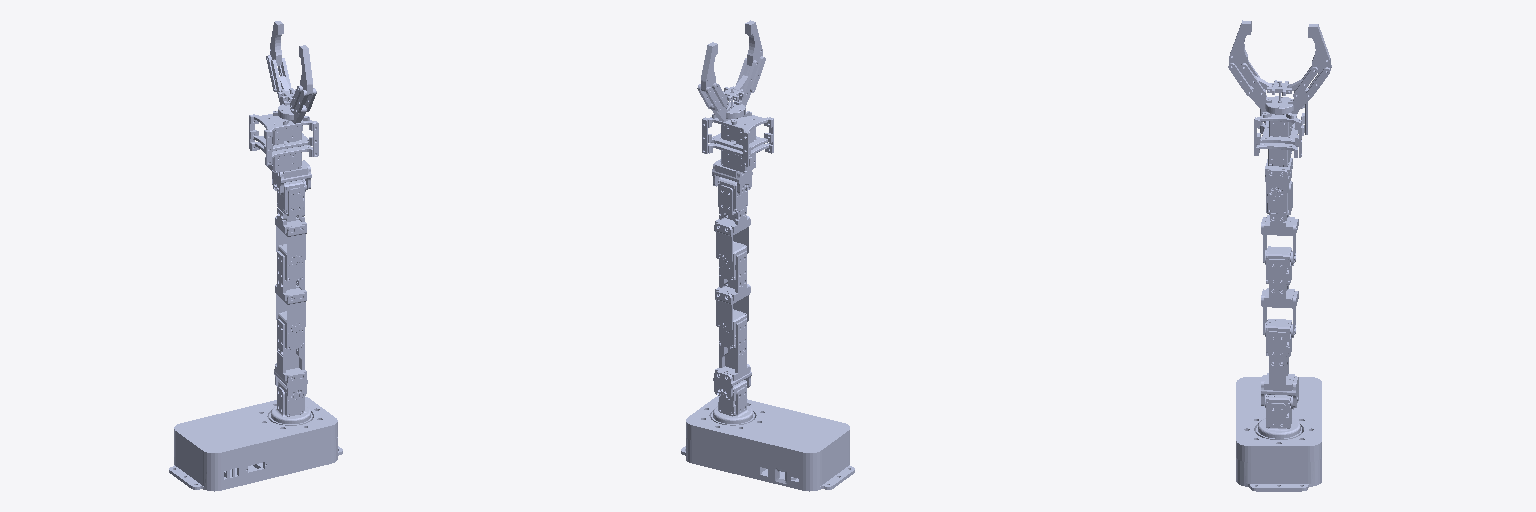
URDF robot description (urdf_assem):
<?xml version="1.0" encoding="utf-8"?>
<!-- This URDF was automatically created by SolidWorks to URDF Exporter! Originally created by [author] ([email redacted]) 
     Commit Version: 1.6.0-1-g15f4949  Build Version: 1.6.7594.29634
     For more information, please see http://wiki.ros.org/sw_urdf_exporter -->
<robot
  name="urdf_assem">
  <link
    name="base_link">
    <inertial>
      <origin
        xyz="-9.3693E-08 2.2776E-09 -1.8355E-08"
        rpy="0 0 0" />
      <mass
        value="0.62852" />
      <inertia
        ixx="0.00090495"
        ixy="-8.558E-08"
        ixz="5.5032E-07"
        iyy="0.00078655"
        iyz="-1.6194E-06"
        izz="0.001595" />
    </inertial>
    <visual>
      <origin
        xyz="0 0 0"
        rpy="0 0 0" />
      <geometry>
        <mesh
          filename="package://urdf_assem/meshes/base_link.STL" />
      </geometry>
      <material
        name="">
        <color
          rgba="0.79216 0.81961 0.93333 1" />
      </material>
    </visual>
    <collision>
      <origin
        xyz="0 0 0"
        rpy="0 0 0" />
      <geometry>
        <mesh
          filename="package://urdf_assem/meshes/base_link.STL" />
      </geometry>
    </collision>
  </link>
  <link
    name="1yaw_Link">
    <inertial>
      <origin
        xyz="0.00013774 -0.00022821 0.051001"
        rpy="0 0 0" />
      <mass
        value="0.070658" />
      <inertia
        ixx="1.9218E-05"
        ixy="4.5889E-09"
        ixz="3.3772E-08"
        iyy="1.93E-05"
        iyz="2.5327E-07"
        izz="1.7629E-05" />
    </inertial>
    <visual>
      <origin
        xyz="0 0 0"
        rpy="0 0 0" />
      <geometry>
        <mesh
          filename="package://urdf_assem/meshes/1yaw_Link.STL" />
      </geometry>
      <material
        name="">
        <color
          rgba="0.79216 0.81961 0.93333 1" />
      </material>
    </visual>
    <collision>
      <origin
        xyz="0 0 0"
        rpy="0 0 0" />
      <geometry>
        <mesh
          filename="package://urdf_assem/meshes/1yaw_Link.STL" />
      </geometry>
    </collision>
  </link>
  <joint
    name="1yaw"
    type="revolute">
    <origin
      xyz="0.044649 4.6404E-05 0.0020863"
      rpy="0 0 0" />
    <parent
      link="base_link" />
    <child
      link="1yaw_Link" />
    <axis
      xyz="0 0 -1" />
    <limit
      lower="0"
      upper="0"
      effort="0"
      velocity="0" />
  </joint>
  <link
    name="2pitch_Link">
    <inertial>
      <origin
        xyz="-0.00010904 -0.00019961 -0.020253"
        rpy="0 0 0" />
      <mass
        value="0.070658" />
      <inertia
        ixx="1.9218E-05"
        ixy="4.5889E-09"
        ixz="3.3772E-08"
        iyy="1.93E-05"
        iyz="2.5327E-07"
        izz="1.7629E-05" />
    </inertial>
    <visual>
      <origin
        xyz="0 0 0"
        rpy="0 0 0" />
      <geometry>
        <mesh
          filename="package://urdf_assem/meshes/2pitch_Link.STL" />
      </geometry>
      <material
        name="">
        <color
          rgba="0.79216 0.81961 0.93333 1" />
      </material>
    </visual>
    <collision>
      <origin
        xyz="0 0 0"
        rpy="0 0 0" />
      <geometry>
        <mesh
          filename="package://urdf_assem/meshes/2pitch_Link.STL" />
      </geometry>
    </collision>
  </link>
  <joint
    name="2pitch"
    type="revolute">
    <origin
      xyz="0.00024679 -2.86E-05 0.071254"
      rpy="0 0 0" />
    <parent
      link="1yaw_Link" />
    <child
      link="2pitch_Link" />
    <axis
      xyz="0.11512 0.99335 0" />
    <limit
      lower="0"
      upper="0"
      effort="0"
      velocity="0" />
  </joint>
  <link
    name="3pitch_Link">
    <inertial>
      <origin
        xyz="0.00011267 0.00017126 -0.042597"
        rpy="0 0 0" />
      <mass
        value="0.097967" />
      <inertia
        ixx="2.7803E-05"
        ixy="-2.9858E-07"
        ixz="5.1607E-08"
        iyy="2.5307E-05"
        iyz="4.1167E-07"
        izz="2.1924E-05" />
    </inertial>
    <visual>
      <origin
        xyz="0 0 0"
        rpy="0 0 0" />
      <geometry>
        <mesh
          filename="package://urdf_assem/meshes/3pitch_Link.STL" />
      </geometry>
      <material
        name="">
        <color
          rgba="0.79216 0.81961 0.93333 1" />
      </material>
    </visual>
    <collision>
      <origin
        xyz="0 0 0"
        rpy="0 0 0" />
      <geometry>
        <mesh
          filename="package://urdf_assem/meshes/3pitch_Link.STL" />
      </geometry>
    </collision>
  </link>
  <joint
    name="3pitch"
    type="revolute">
    <origin
      xyz="-0.00022593 -0.00022549 0.11"
      rpy="0 0 0" />
    <parent
      link="2pitch_Link" />
    <child
      link="3pitch_Link" />
    <axis
      xyz="0.11512 0.99335 0" />
    <limit
      lower="0"
      upper="0"
      effort="0"
      velocity="0" />
  </joint>
  <link
    name="4pitch_Link">
    <inertial>
      <origin
        xyz="-0.00013909 0.00015238 -0.032575"
        rpy="0 0 0" />
      <mass
        value="0.086004" />
      <inertia
        ixx="2.3019E-05"
        ixy="-3.0261E-07"
        ixz="3.9574E-08"
        iyy="2.0489E-05"
        iyz="3.0865E-07"
        izz="1.8118E-05" />
    </inertial>
    <visual>
      <origin
        xyz="0 0 0"
        rpy="0 0 0" />
      <geometry>
        <mesh
          filename="package://urdf_assem/meshes/4pitch_Link.STL" />
      </geometry>
      <material
        name="">
        <color
          rgba="0.79216 0.81961 0.93333 1" />
      </material>
    </visual>
    <collision>
      <origin
        xyz="0 0 0"
        rpy="0 0 0" />
      <geometry>
        <mesh
          filename="package://urdf_assem/meshes/4pitch_Link.STL" />
      </geometry>
    </collision>
  </link>
  <joint
    name="4pitch"
    type="revolute">
    <origin
      xyz="0.00029743 -3.4469E-05 0.1115"
      rpy="0 0 0" />
    <parent
      link="3pitch_Link" />
    <child
      link="4pitch_Link" />
    <axis
      xyz="0.11512 0.99335 0" />
    <limit
      lower="0"
      upper="0"
      effort="0"
      velocity="0" />
  </joint>
  <link
    name="5pitch_Link">
    <inertial>
      <origin
        xyz="-0.00019972 0.00039521 -0.032621"
        rpy="0 0 0" />
      <mass
        value="0.086678" />
      <inertia
        ixx="2.3221E-05"
        ixy="-3.2277E-07"
        ixz="2.5762E-07"
        iyy="2.0427E-05"
        iyz="-1.2391E-09"
        izz="1.8284E-05" />
    </inertial>
    <visual>
      <origin
        xyz="0 0 0"
        rpy="0 0 0" />
      <geometry>
        <mesh
          filename="package://urdf_assem/meshes/5pitch_Link.STL" />
      </geometry>
      <material
        name="">
        <color
          rgba="0.79216 0.81961 0.93333 1" />
      </material>
    </visual>
    <collision>
      <origin
        xyz="0 0 0"
        rpy="0 0 0" />
      <geometry>
        <mesh
          filename="package://urdf_assem/meshes/5pitch_Link.STL" />
      </geometry>
    </collision>
  </link>
  <joint
    name="5pitch"
    type="revolute">
    <origin
      xyz="0.00025467 2.0821E-05 0.1115"
      rpy="0 0 0" />
    <parent
      link="4pitch_Link" />
    <child
      link="5pitch_Link" />
    <axis
      xyz="0.99335 -0.11512 0" />
    <limit
      lower="0"
      upper="0"
      effort="0"
      velocity="0" />
  </joint>
  <link
    name="6roll_Link">
    <inertial>
      <origin
        xyz="-0.0069217 0.00083646 -0.011417"
        rpy="0 0 0" />
      <mass
        value="0.073114" />
      <inertia
        ixx="1.0569E-05"
        ixy="1.0678E-06"
        ixz="2.3366E-07"
        iyy="1.9621E-05"
        iyz="-3.2881E-08"
        izz="2.044E-05" />
    </inertial>
    <visual>
      <origin
        xyz="0 0 0"
        rpy="0 0 0" />
      <geometry>
        <mesh
          filename="package://urdf_assem/meshes/6roll_Link.STL" />
      </geometry>
      <material
        name="">
        <color
          rgba="0.79216 0.81961 0.93333 1" />
      </material>
    </visual>
    <collision>
      <origin
        xyz="0 0 0"
        rpy="0 0 0" />
      <geometry>
        <mesh
          filename="package://urdf_assem/meshes/6roll_Link.STL" />
      </geometry>
    </collision>
  </link>
  <joint
    name="6roll"
    type="revolute">
    <origin
      xyz="0.00074007 -0.00019001 0.052"
      rpy="0 0 0" />
    <parent
      link="5pitch_Link" />
    <child
      link="6roll_Link" />
    <axis
      xyz="0 0 -1" />
    <limit
      lower="0"
      upper="0"
      effort="0"
      velocity="0" />
  </joint>
  <link
    name="gripper_Link">
    <inertial>
      <origin
        xyz="-0.0064688 0.00064877 0.03076"
        rpy="0 0 0" />
      <mass
        value="0.17396" />
      <inertia
        ixx="4.4692E-05"
        ixy="1.6658E-06"
        ixz="-2.3558E-07"
        iyy="5.8926E-05"
        iyz="2.1103E-08"
        izz="6.171E-05" />
    </inertial>
    <visual>
      <origin
        xyz="0 0 0"
        rpy="0 0 0" />
      <geometry>
        <mesh
          filename="package://urdf_assem/meshes/gripper_Link.STL" />
      </geometry>
      <material
        name="">
        <color
          rgba="0.79216 0.81961 0.93333 1" />
      </material>
    </visual>
    <collision>
      <origin
        xyz="0 0 0"
        rpy="0 0 0" />
      <geometry>
        <mesh
          filename="package://urdf_assem/meshes/gripper_Link.STL" />
      </geometry>
    </collision>
  </link>
  <joint
    name="gripper"
    type="revolute">
    <origin
      xyz="0.00033362 0.0016368 0.043"
      rpy="0 0 0" />
    <parent
      link="6roll_Link" />
    <child
      link="gripper_Link" />
    <axis
      xyz="0 0 -1" />
    <limit
      lower="0"
      upper="0"
      effort="0"
      velocity="0" />
  </joint>
</robot>

--- What the picture shows (computed from the rendered views, not written in the file) ---
The picture shows the robot from 3 angles, left to right: view 1: azimuth 30°, elevation 25°; view 2: azimuth 150°, elevation 25°; view 3: azimuth 270°, elevation 25°; orthographic projection.
Robot: urdf_assem — 8 links, 7 joints (7 revolute); root link base_link; default pose: every joint at zero.
Links seen in each view (by area): view 1: base_link, gripper_Link, 5pitch_Link, 3pitch_Link, 4pitch_Link, 6roll_Link, 1yaw_Link; view 2: base_link, gripper_Link, 3pitch_Link, 5pitch_Link, 4pitch_Link, 6roll_Link, 1yaw_Link; view 3: base_link, gripper_Link, 3pitch_Link, 4pitch_Link, 5pitch_Link, 6roll_Link, 1yaw_Link, 2pitch_Link.
Link boxes in pixels (x1,y1,x2,y2): base_link: (169, 397, 342, 491); gripper_Link: (249, 21, 318, 165); 5pitch_Link: (275, 179, 306, 263); 3pitch_Link: (274, 311, 307, 398); 4pitch_Link: (275, 244, 306, 330); 6roll_Link: (267, 153, 311, 194); 1yaw_Link: (271, 380, 310, 423); base_link: (681, 396, 854, 491); gripper_Link: (697, 20, 773, 166); 3pitch_Link: (713, 309, 751, 398); 5pitch_Link: (714, 177, 750, 262); 4pitch_Link: (715, 241, 750, 330); 6roll_Link: (712, 150, 755, 193); 1yaw_Link: (713, 380, 752, 423); base_link: (1236, 377, 1321, 491); gripper_Link: (1228, 20, 1331, 157); 3pitch_Link: (1261, 319, 1298, 407); 4pitch_Link: (1261, 246, 1298, 336); 5pitch_Link: (1261, 180, 1298, 263); 6roll_Link: (1265, 149, 1292, 195); 1yaw_Link: (1258, 394, 1300, 438); 2pitch_Link: (1258, 396, 1300, 438).
Size in the robot's own frame: 0.26 by 0.1446 by 0.6888 metres.
8 mesh visuals loaded from 8 distinct referenced files (8 binary STL).